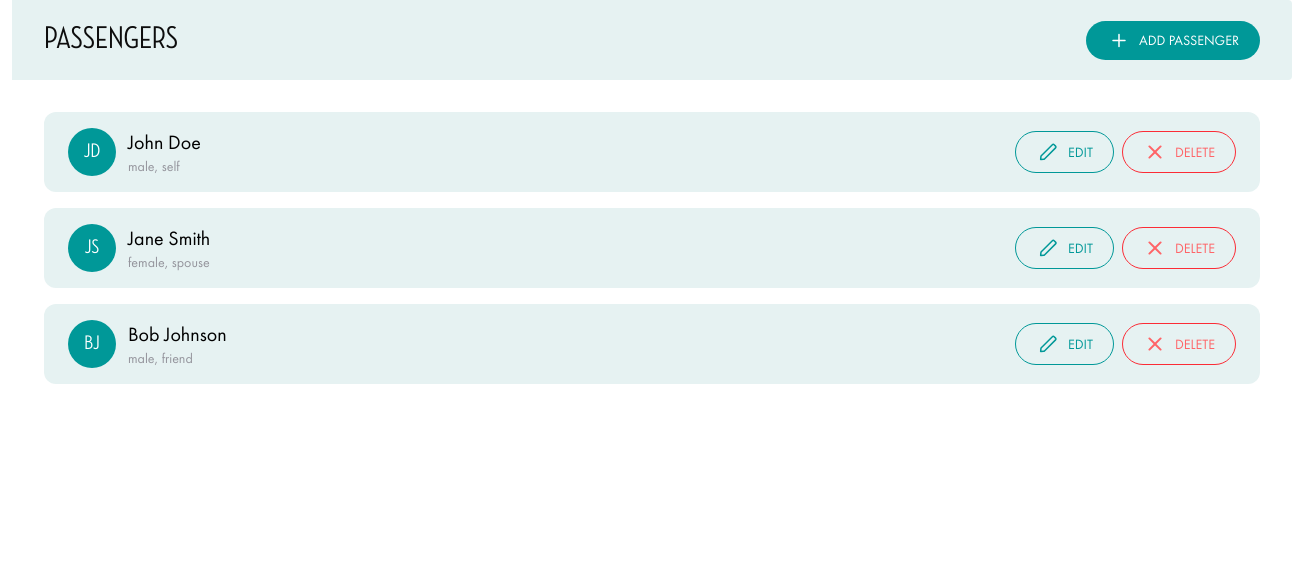
Scenario: TravellersTab Component › Delete Passenger Functionality › should hide delete modal when Cancel is clicked
Expected: the text "John Doe" is shown, x1=128 y1=128 x2=201 y2=156
Click the button "Delete" in the row of "John Doe" at (1179, 152), box x1=1122 y1=131 x2=1236 y2=173
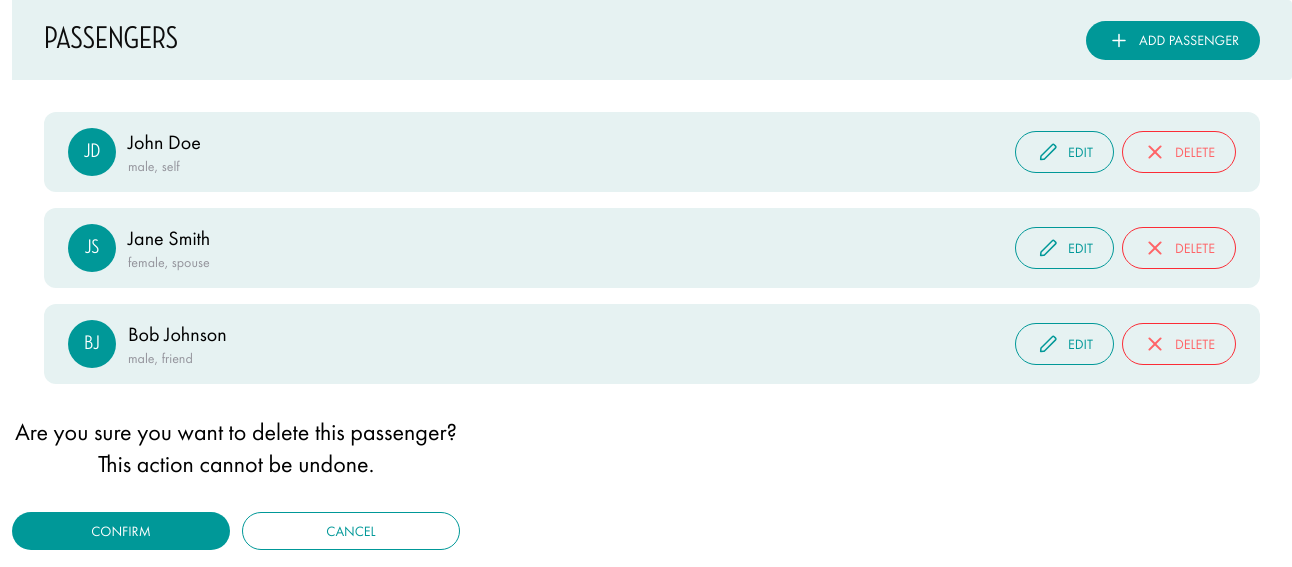
Click the button "Cancel" at (351, 531), box x1=242 y1=512 x2=460 y2=550
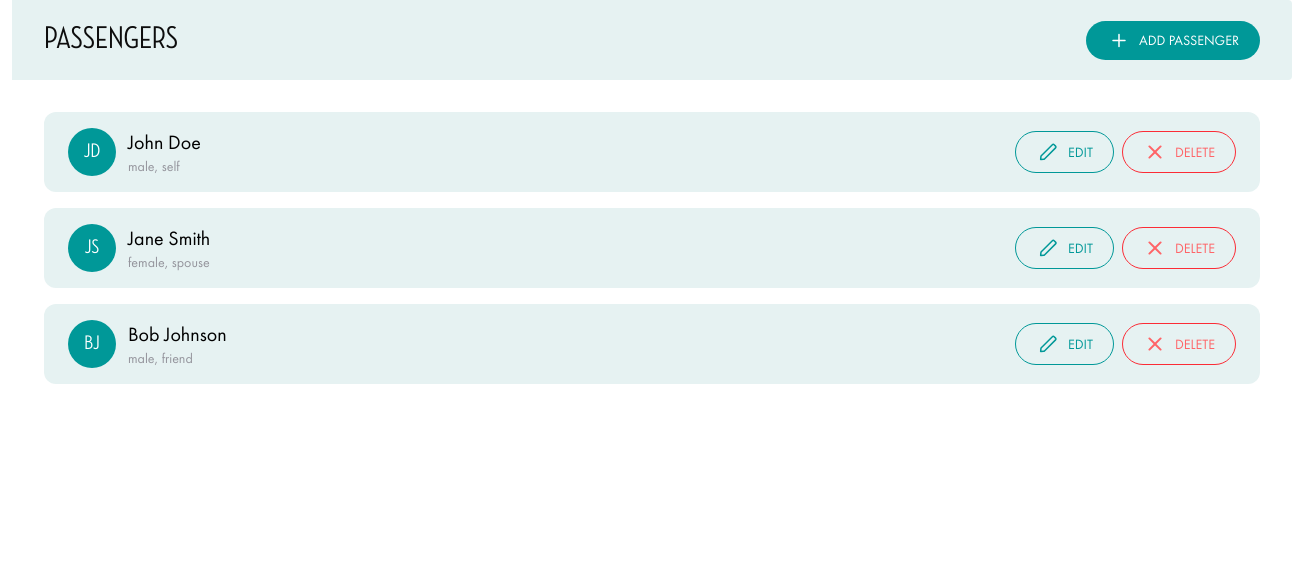
Expected: the text "Are you sure you want to delete this passenger? This action cannot be undone." is gone
